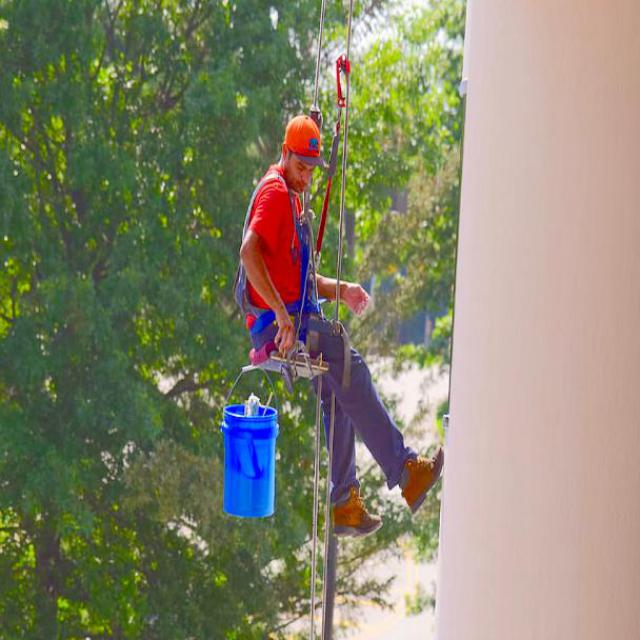helmet: (279, 108, 328, 195)
